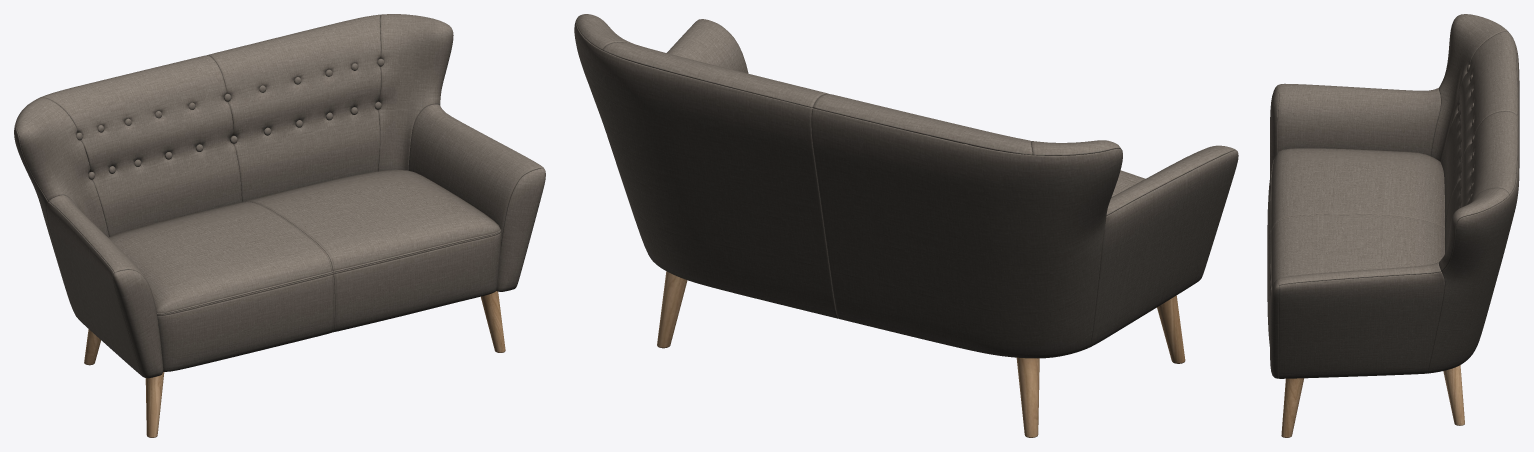
Rendered from quentin_2_seater_sofa_lemongrass_green.glb.
The picture shows the model from 3 angles, left to right: view 1: azimuth 30°, elevation 25°; view 2: azimuth 150°, elevation 25°; view 3: azimuth 270°, elevation 25°; orthographic projection. The views are drawn at different scales.
Parts seen in each view (by area): view 1: FABRIC001, WOOD001; view 2: FABRIC001, WOOD001; view 3: FABRIC001, WOOD001.
Boxes of the visible parts, box(x1,y1,x2,y2) form: FABRIC001: box(14, 14, 545, 378); WOOD001: box(84, 291, 505, 437); FABRIC001: box(574, 14, 1238, 358); WOOD001: box(657, 271, 1185, 437); FABRIC001: box(1267, 14, 1519, 378); WOOD001: box(1281, 365, 1464, 437).
Bounding box in the file's own units: 2.02 × 1.13 × 1.06.
Materials: 2 (2 with a texture image).
